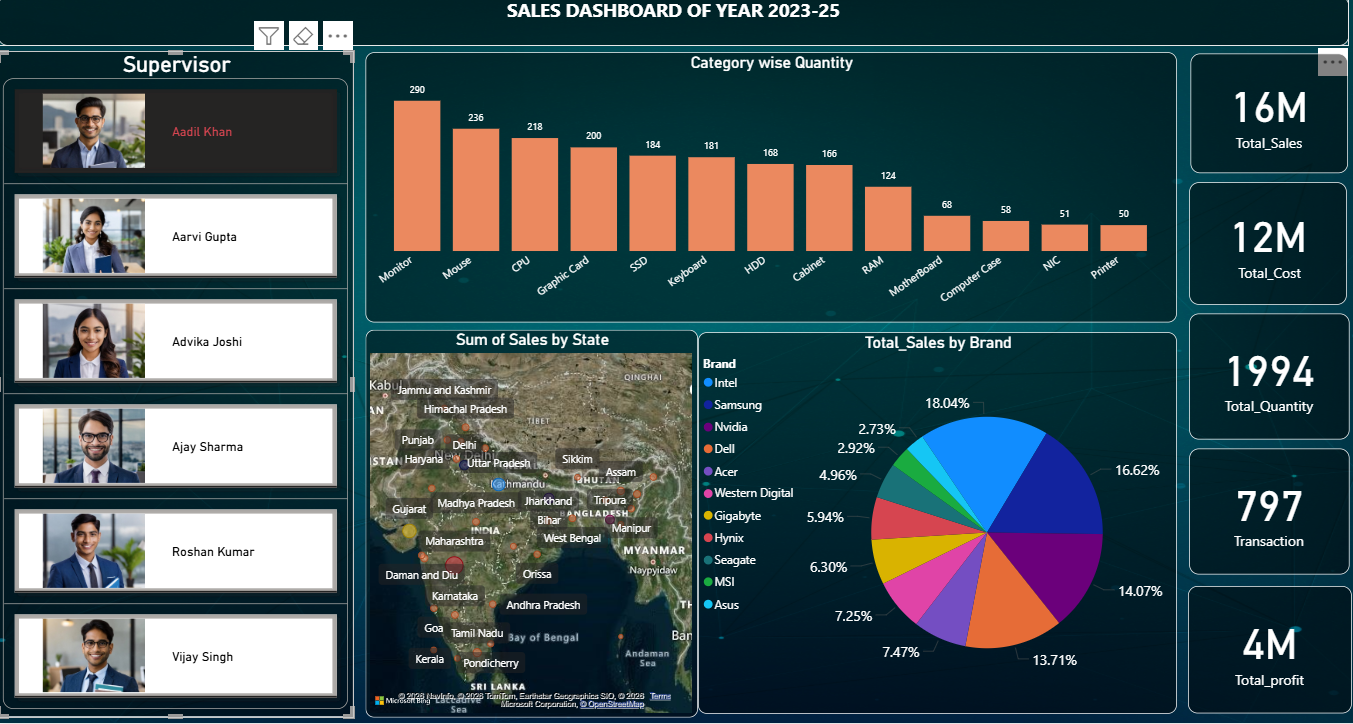

This screenshot's page, from the dashboard's own definition file:
{"tool":"powerbi","page":{"name":"Page 1","canvas":[1600,830],"ordinal":0},"visuals":[{"type":"textbox","box":[0,0,1544.3,57.1],"z":0},{"type":"card","fields":{"Values":["Sum(Sales_Data.Total_Sales)"]},"box":[1362.9,65.7,180,137.1],"z":1000},{"type":"card","fields":{"Values":["Sum(Sales_Data.Total_Cost)"]},"box":[1361.4,212.9,180,140],"z":2000},{"type":"card","fields":{"Values":["Sum(Sales_Data.Quantity)"]},"box":[1361.4,362.9,182.9,144.3],"z":3000},{"type":"card","fields":{"Values":["Sales_Data.Total_profit"]},"box":[1360,674.3,187.1,145.7],"z":4000},{"type":"card","fields":{"Values":["CountNonNull(Sales_Data.Order_Number)"]},"box":[1361.4,517.1,182.9,144.3],"z":5000},{"type":"clusteredColumnChart","title":"Category wise Quantity","fields":{"Category":["Sales_Data.Category"],"Y":["Sum(Sales_Data.Quantity)"]},"box":[420,64.3,927.1,308.6],"z":6000},{"type":"pieChart","fields":{"Y":["Sum(Sales_Data.Total_Sales)"],"Category":["Sales_Data.Brand"]},"box":[800,384.3,547.1,435.7],"z":7000},{"type":"map","fields":{"Category":["State_list.State"],"Size":["Sum(Sales_Data.Sales)"]},"box":[420,381.4,380,442.9],"z":8000},{"type":"advancedSlicerVisual","fields":{"Values":["Supervisor.Supervisor"]},"box":[0,63.3,406.7,761],"z":9000}]}

Visuals, with their boxes on the page's 1600x830 design canvas (x1, y1, x2, y2). These are canvas units, not pixel positions in the 1353x724 screenshot, which may show the page scaled, cropped or inside an application window:
textbox: left=0, top=0, right=1544, bottom=57
card - Sum(Sales_Data.Total_Sales): left=1363, top=66, right=1543, bottom=203
card - Sum(Sales_Data.Total_Cost): left=1361, top=213, right=1541, bottom=353
card - Sum(Sales_Data.Quantity): left=1361, top=363, right=1544, bottom=507
card - Sales_Data.Total_profit: left=1360, top=674, right=1547, bottom=820
card - CountNonNull(Sales_Data.Order_Number): left=1361, top=517, right=1544, bottom=661
"Category wise Quantity" clusteredColumnChart: left=420, top=64, right=1347, bottom=373
pieChart - Sum(Sales_Data.Total_Sales) x Sales_Data.Brand: left=800, top=384, right=1347, bottom=820
map - State_list.State x Sum(Sales_Data.Sales): left=420, top=381, right=800, bottom=824
advancedSlicerVisual - Supervisor.Supervisor: left=0, top=63, right=407, bottom=824
